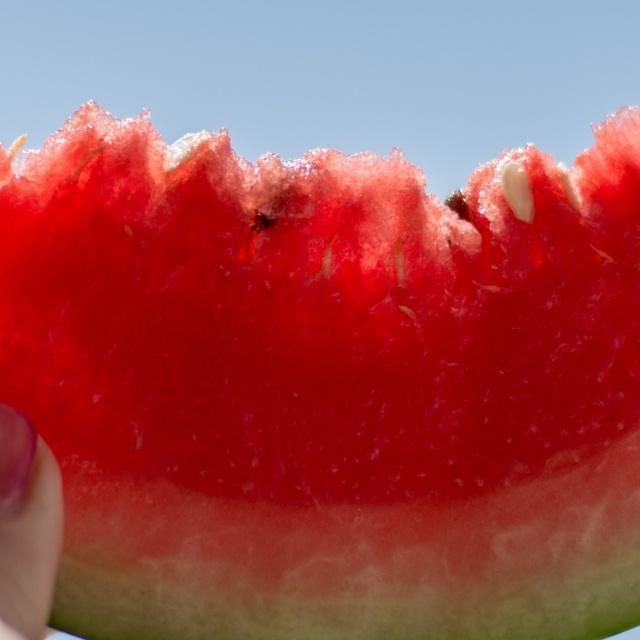watermelon: (0, 82, 640, 585)
